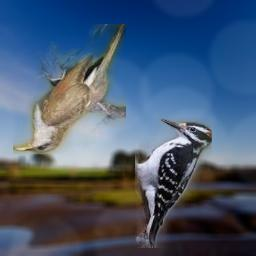Cuckoo: (13, 24, 126, 154)
Woodpecker: (135, 118, 212, 248)
